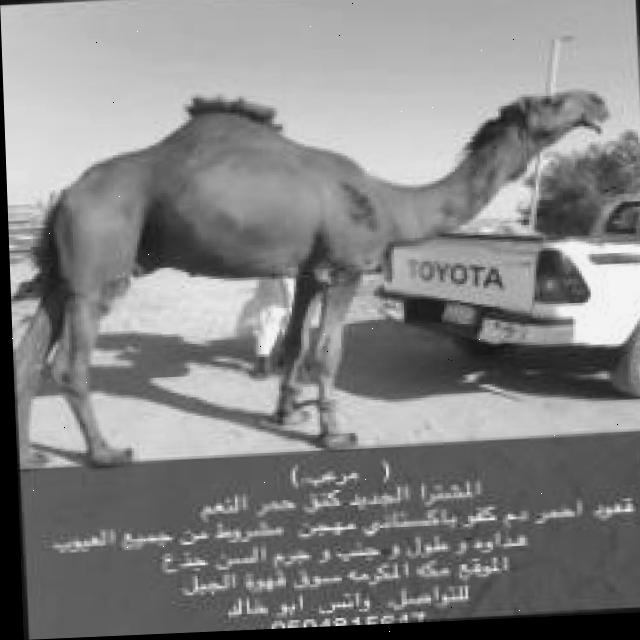Camel: (4, 76, 622, 469)
